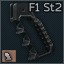AR-15 F1 Firearms Skeletonized Style 2 pistol grip: (0, 0, 64, 64)
